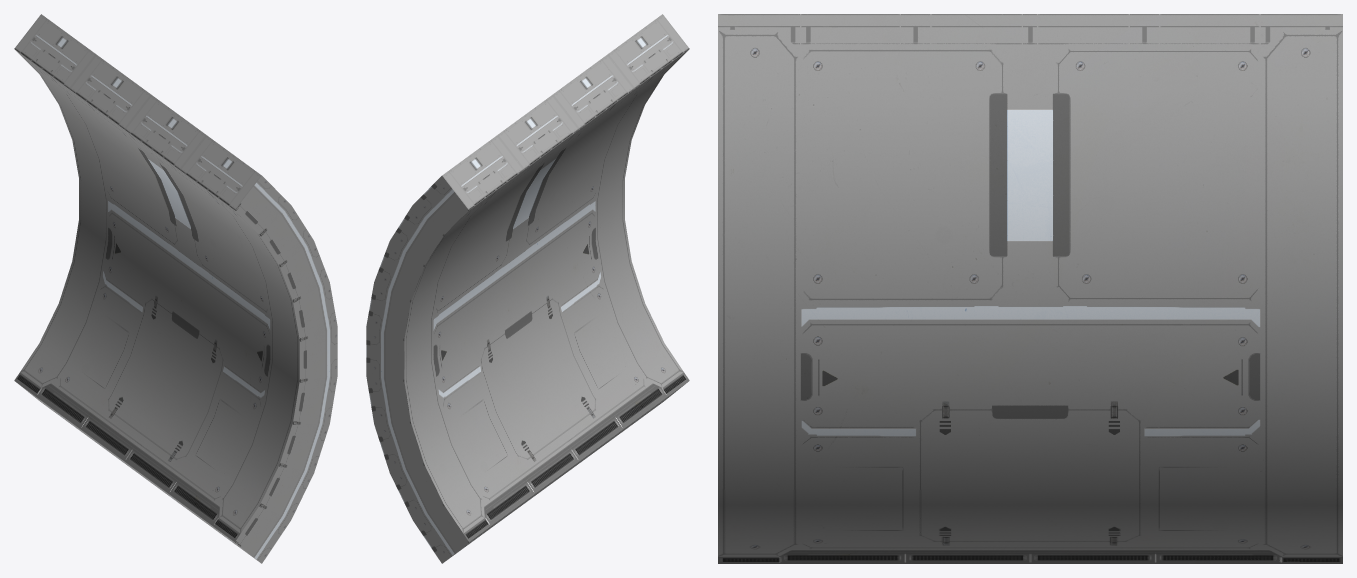
Rendered from SM_Walls_CURVED04.fbx.
3 renders of one model, left to right at view 1: azimuth 30°, elevation 25°; view 2: azimuth 150°, elevation 25°; view 3: azimuth 270°, elevation 25°, orthographic. The views are drawn at different scales.
Visible parts, largest first — view 1: SM_Walls_CURVED04_LOD0; view 2: SM_Walls_CURVED04_LOD0; view 3: SM_Walls_CURVED04_LOD0.
Part boxes in pixels (box(x1,y1,x2,y2)): SM_Walls_CURVED04_LOD0: box(14, 14, 337, 563); SM_Walls_CURVED04_LOD0: box(366, 14, 689, 563); SM_Walls_CURVED04_LOD0: box(718, 14, 1342, 563).
Size of the model in its own units: 108 by 400 by 388.
Materials: 1 (1 with a texture image).
